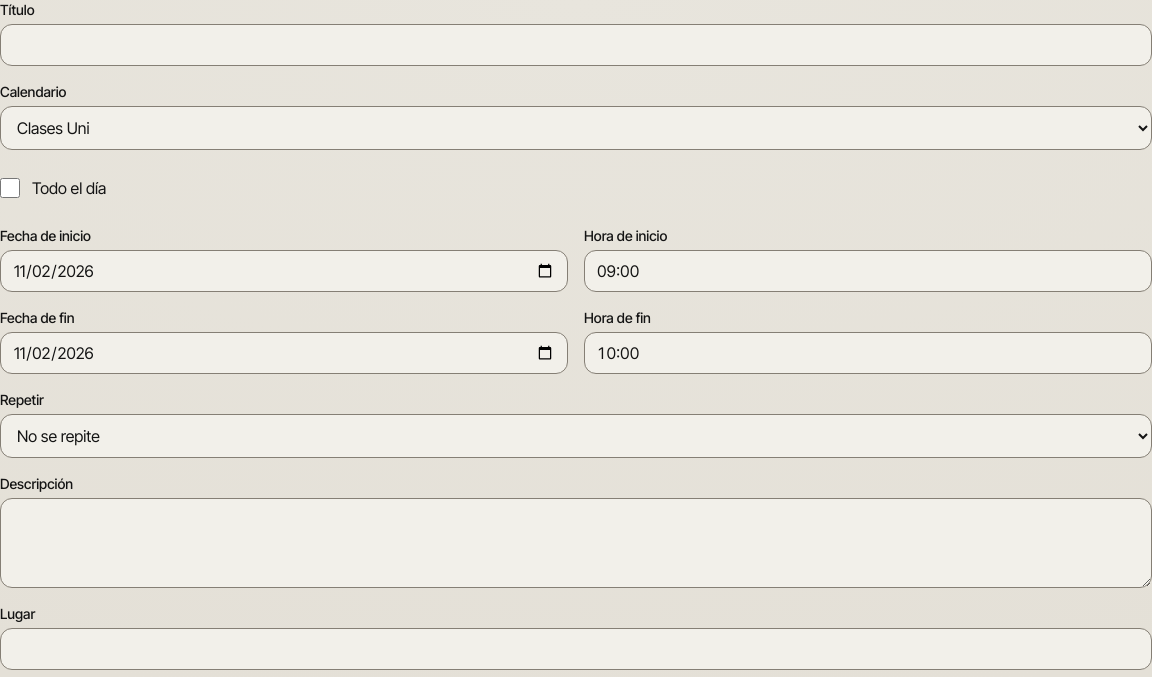
EventForm (RF-15, RF-16) › drops the chosen category when the calendar changes (RF-27)
Select "Familia" in the dropdown labelled "Calendario" at x=576, y=128, box top-left (0, 106), bottom-right (1151, 150)
(page scrolled)
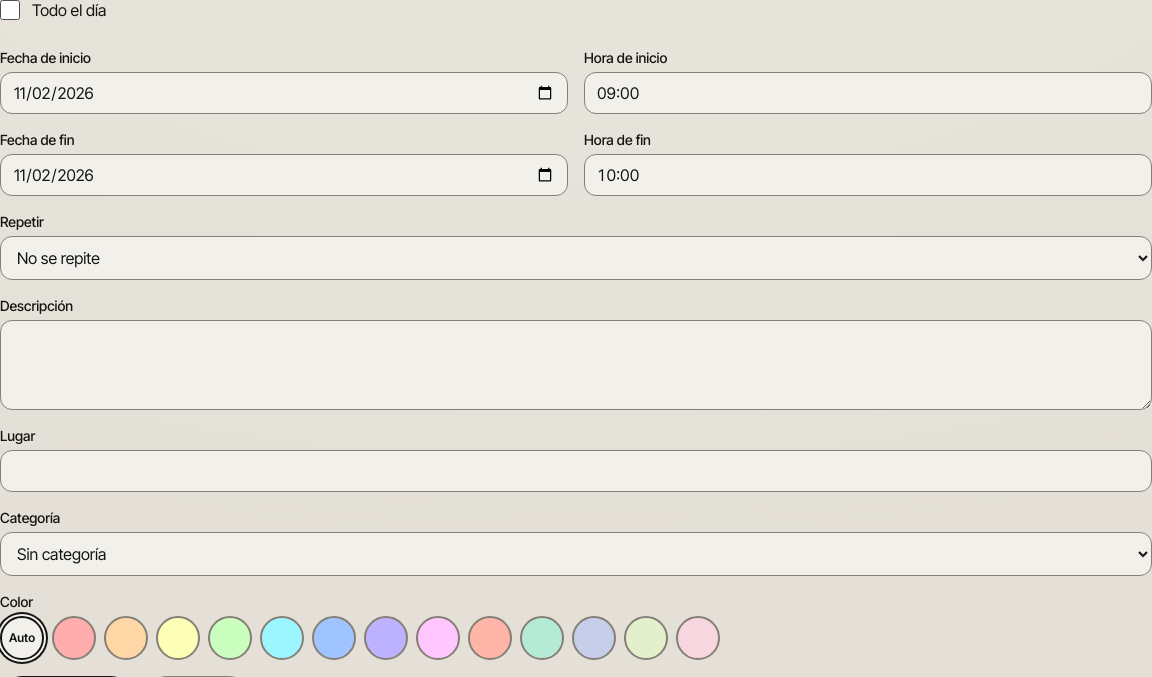
Expected: the dropdown labelled "Categoría" shows "Sin categoría", top-left (0, 532), bottom-right (1151, 576)
